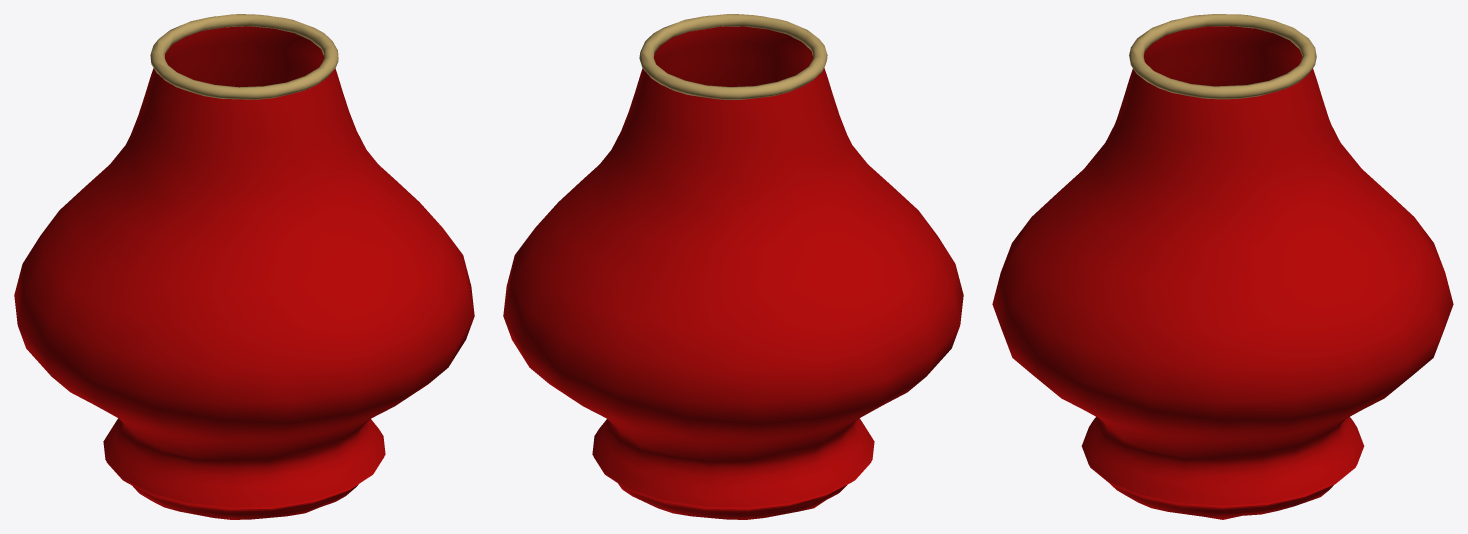
3 renders of one model, left to right at view 1: azimuth 30°, elevation 25°; view 2: azimuth 150°, elevation 25°; view 3: azimuth 270°, elevation 25°, orthographic.
Parts seen in each view (by area): view 1: 2541013; view 2: 2541013; view 3: 2541013.
Part boxes in pixels (box(x1,y1,x2,y2)): 2541013: box(14, 14, 474, 519); 2541013: box(503, 14, 963, 519); 2541013: box(992, 14, 1453, 519).
Bounding box in the file's own units: 100 × 100 × 100.
